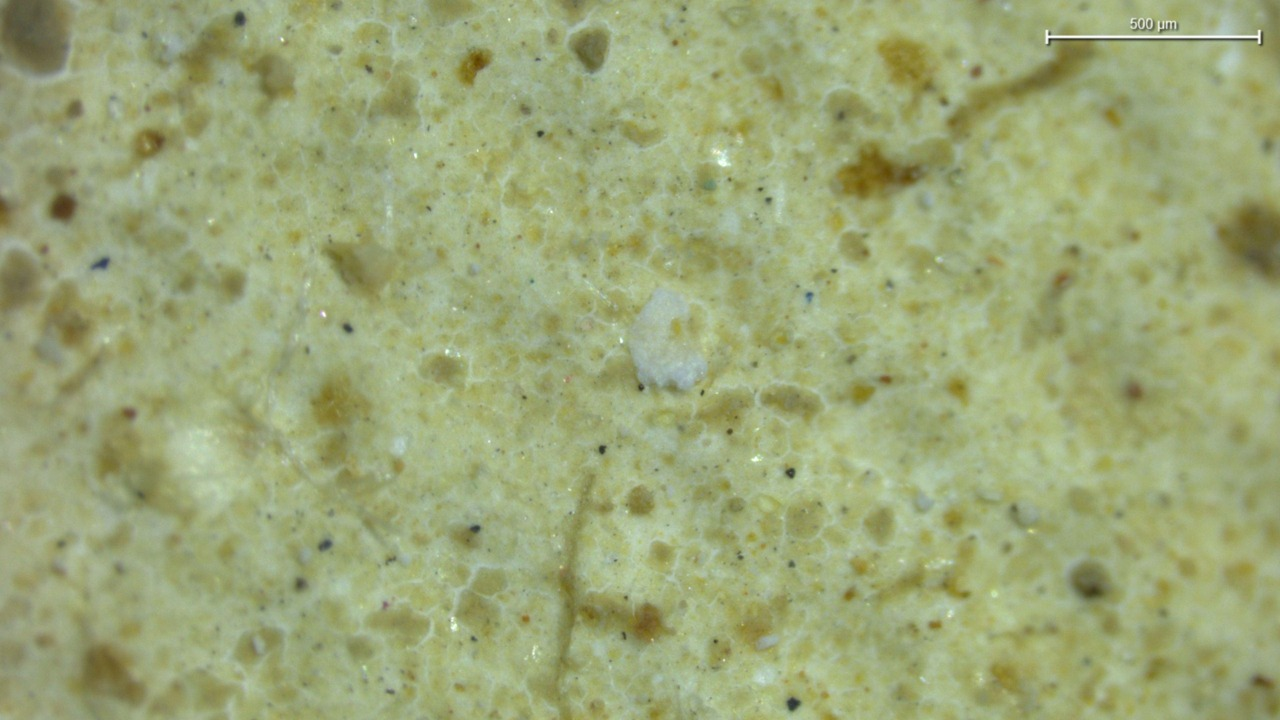microplastic_fragment: (627, 288, 707, 391)
